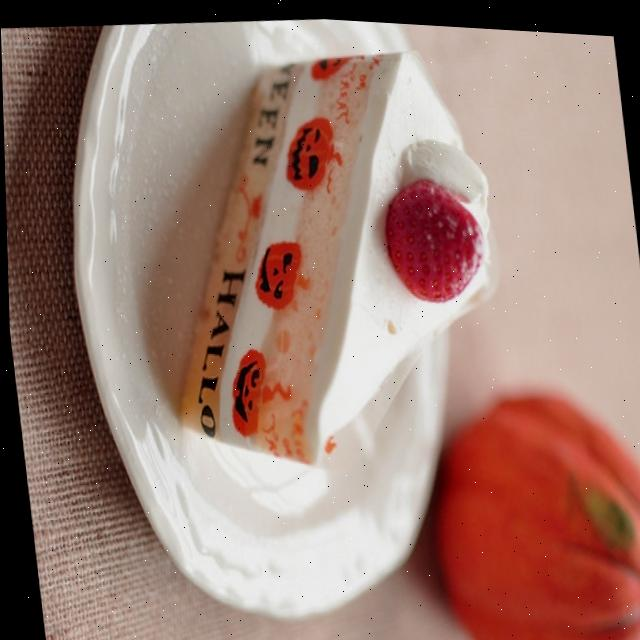蛋糕甜品: (41, 2, 544, 640)
